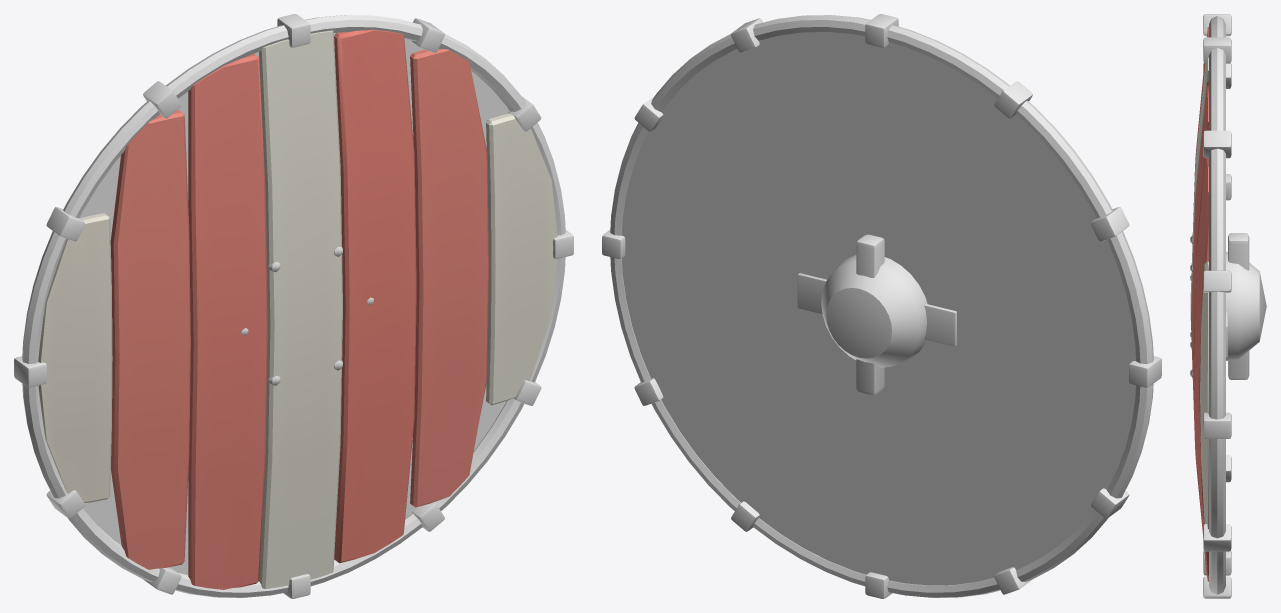
The model's file is round_shield.glb.
3 views of the same model, side by side, from view 1: azimuth 30°, elevation 25°; view 2: azimuth 150°, elevation 25°; view 3: azimuth 270°, elevation 25° (orthographic). The views are drawn at different scales.
Parts seen in each view (by area): view 1: round_shield; view 2: round_shield; view 3: round_shield.
Part boxes in pixels (x1,y1,x2,y2): round_shield: [14, 14, 573, 598]; round_shield: [602, 14, 1161, 598]; round_shield: [1190, 14, 1266, 598].
Size of the model in its own units: 0.83 by 0.83 by 0.1086.
